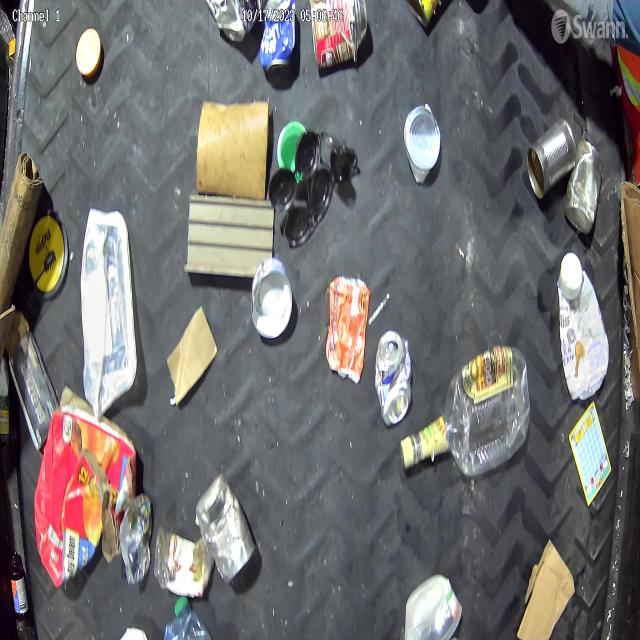can: (196, 476, 257, 585), (528, 118, 580, 202), (309, 0, 368, 68), (373, 327, 413, 426), (564, 140, 603, 233), (403, 101, 441, 186), (259, 0, 296, 74), (406, 1, 446, 27)
plastic_bottle: (161, 600, 222, 640)
